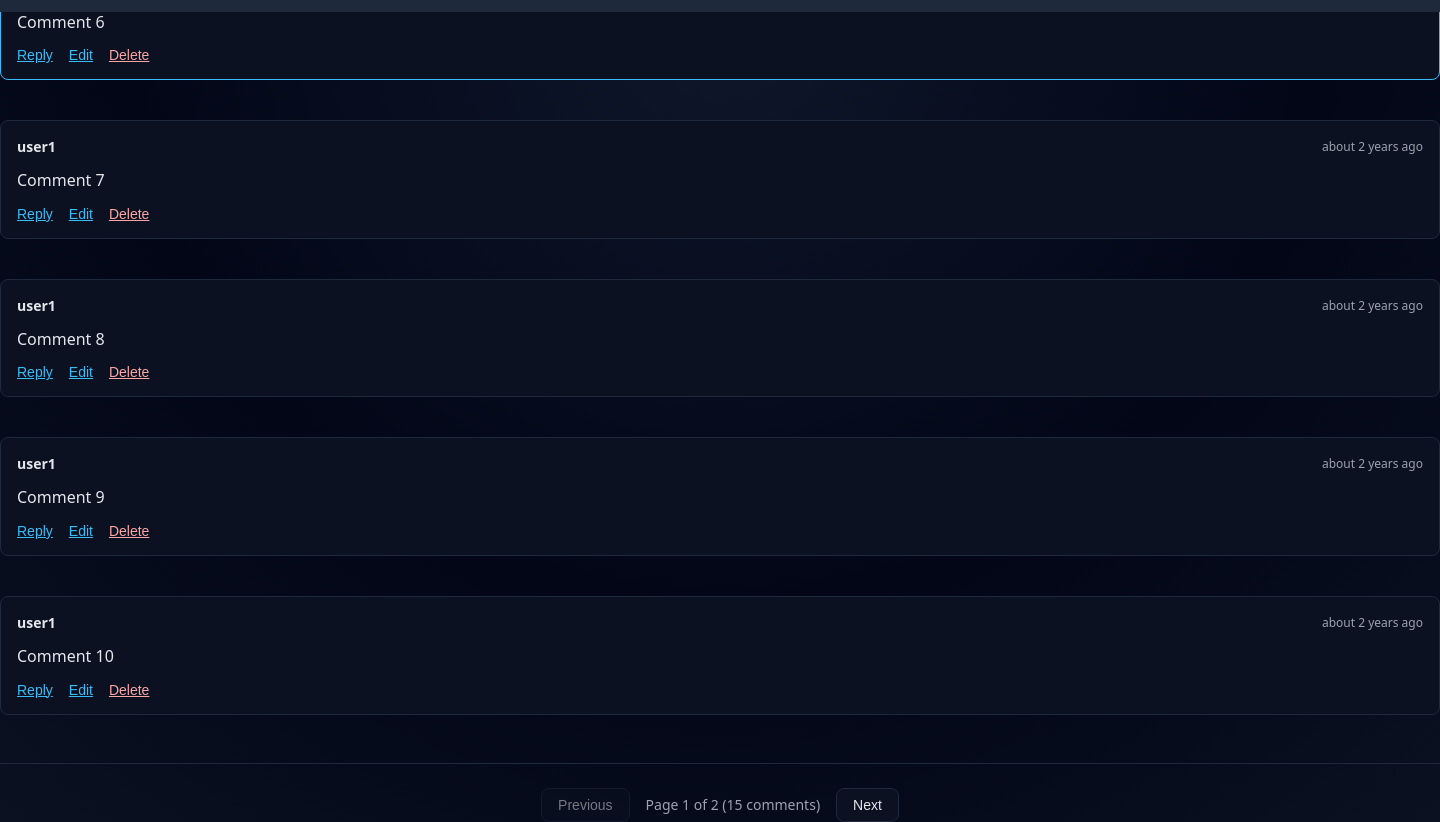
Test: CommentsList › navigates to previous page when Previous button is clicked
Go to page 2
Click the button with aria-label "Next page" at {"x": 868, "y": 804}, box [836,788,899,821]
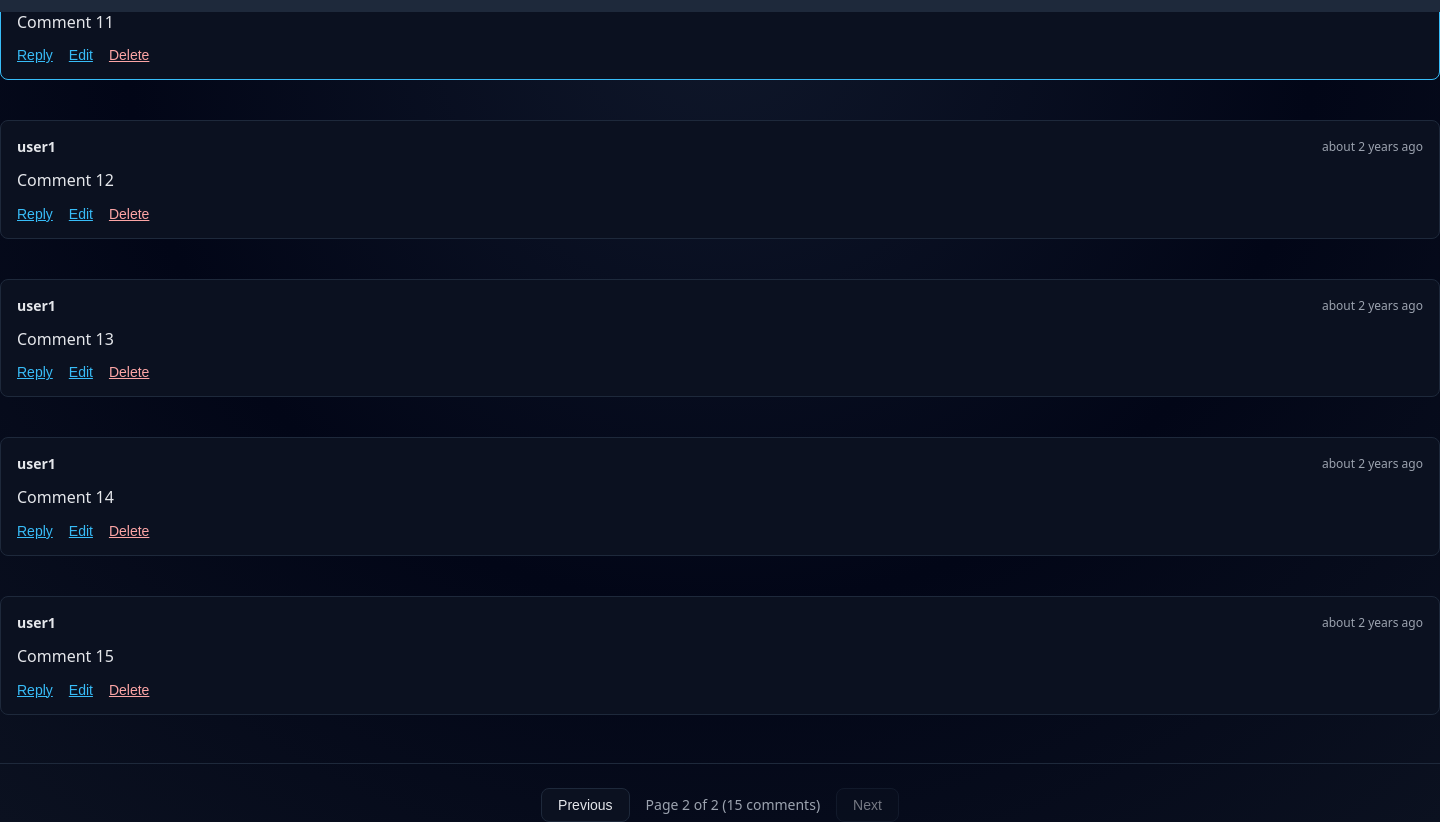
Check: the text "Page 2 of 2 (15 comments)" is shown, box [646,795,820,814]
Go back to page 1
Click the button with aria-label "Previous page" at {"x": 585, "y": 804}, box [541,788,630,821]
(page scrolled)
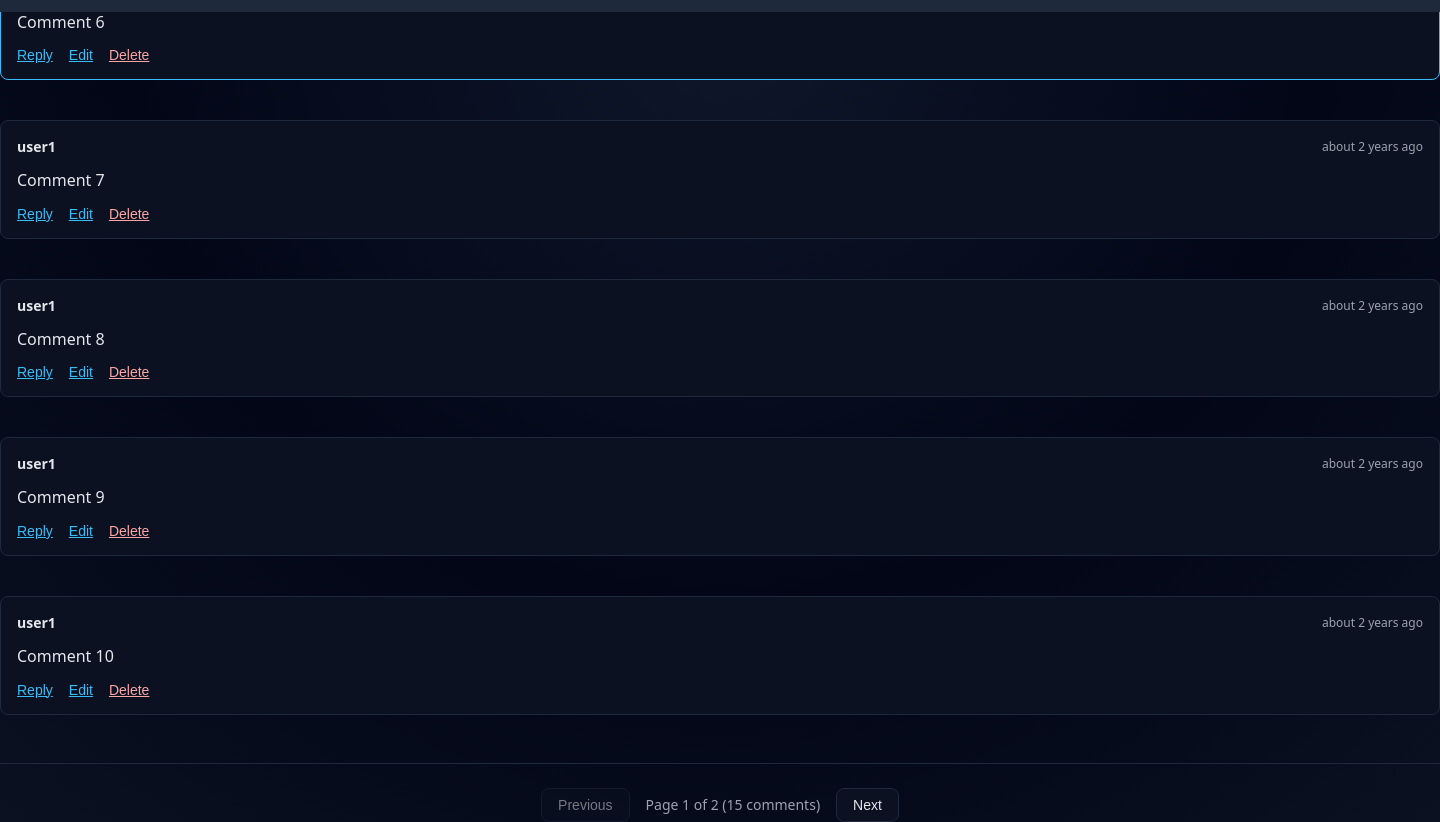
Check: the text "Page 1 of 2 (15 comments)" is shown, box [646,795,820,814]
